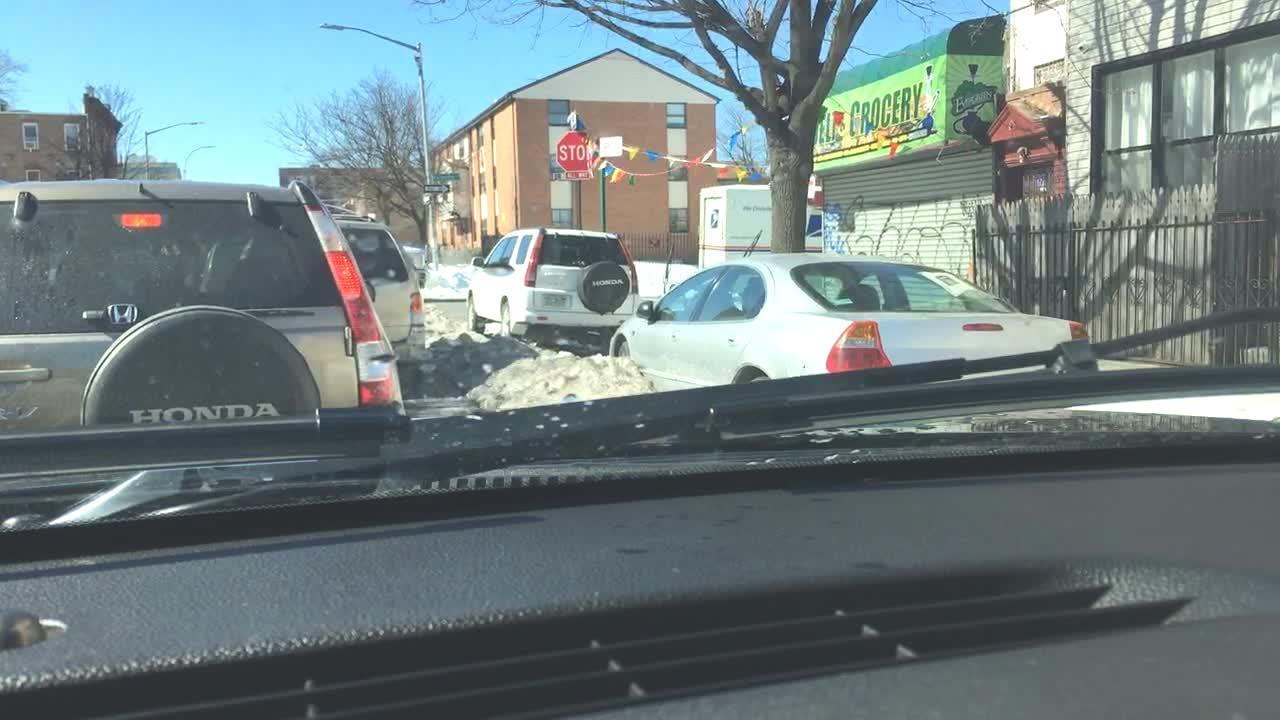Honda: (104, 296, 143, 334)
